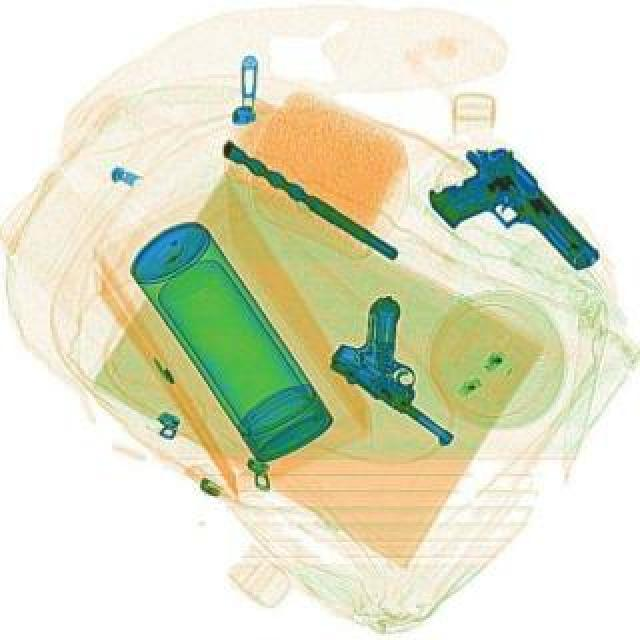gun: (418, 136, 606, 312), (316, 288, 504, 450)
